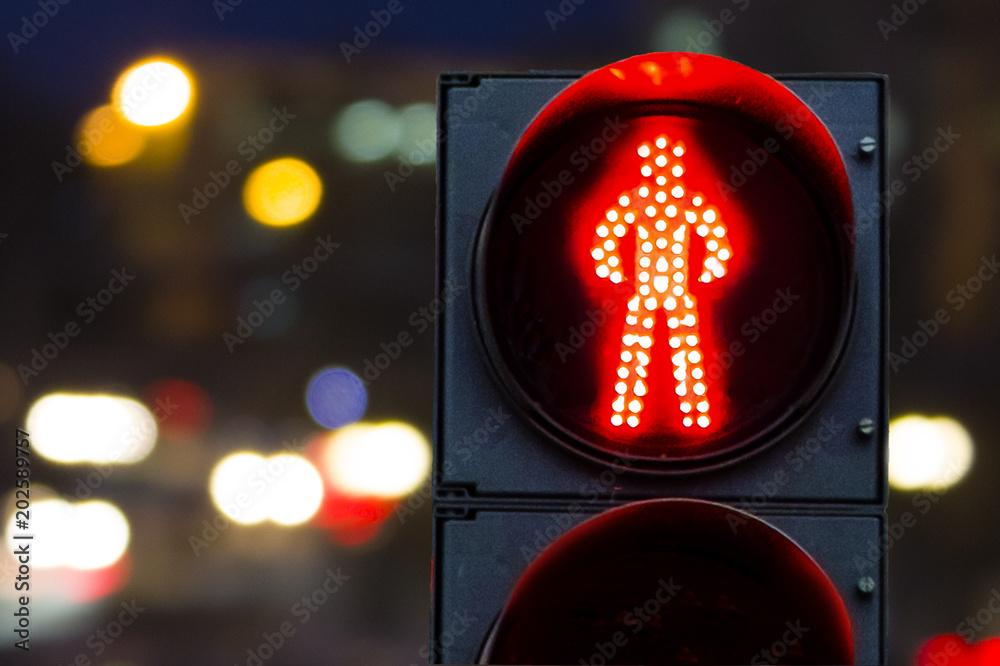red: (412, 47, 923, 666)
